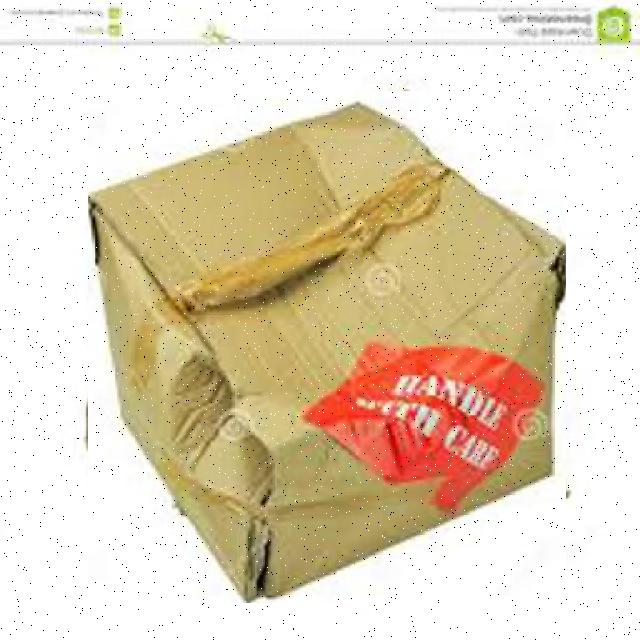defect: (88, 91, 566, 603)
